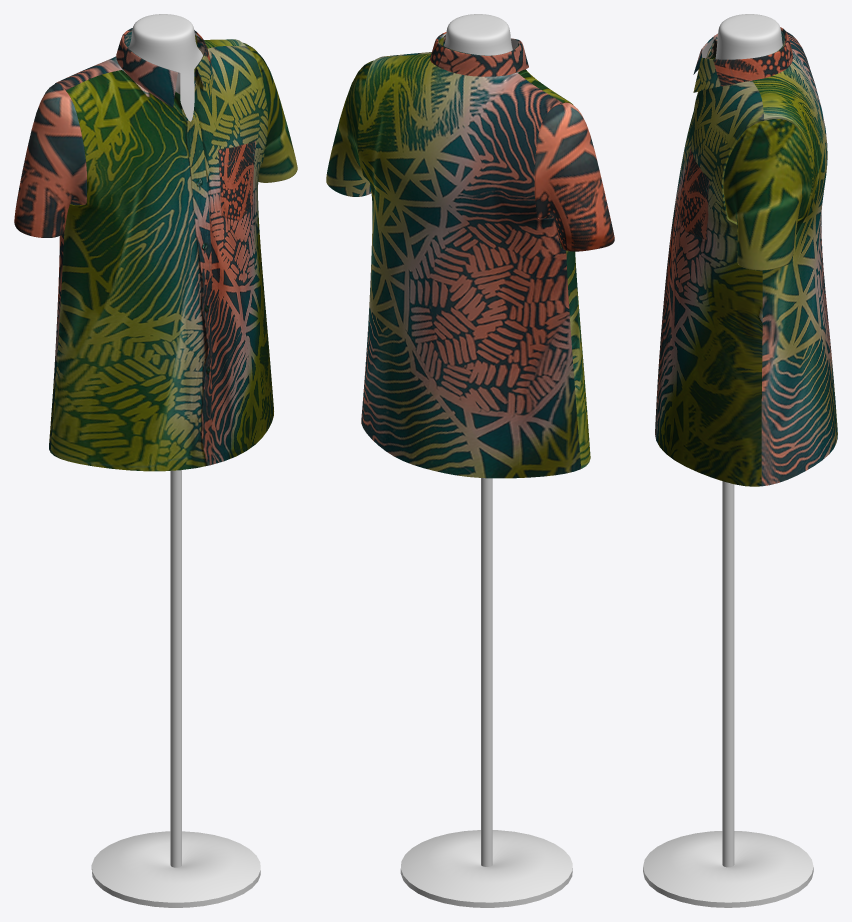
File: 1_men_batik_shirt_short.glb
3 renders of one model, left to right at view 1: azimuth 30°, elevation 25°; view 2: azimuth 150°, elevation 25°; view 3: azimuth 270°, elevation 25°, orthographic.
Visible parts, largest first — view 1: pasted__polySurface13, polySurface17, polySurface18, pasted__polySurface14; view 2: pasted__polySurface13, polySurface17, polySurface18, pasted__polySurface14; view 3: pasted__polySurface13, polySurface17, pasted__polySurface14, polySurface18.
Part boxes in pixels (x1,y1,x2,y2): pasted__polySurface13: (14,30,297,471); polySurface17: (91,470,260,907); polySurface18: (128,14,202,121); pasted__polySurface14: (116,28,213,107); pasted__polySurface13: (326,33,614,478); polySurface17: (400,478,572,907); polySurface18: (444,14,512,55); pasted__polySurface14: (430,32,528,76); pasted__polySurface13: (655,30,837,486); polySurface17: (643,481,813,907); pasted__polySurface14: (693,27,792,92); polySurface18: (715,14,782,59).
Bounding box in the file's own units: 54.39 × 158 × 33.02.
Materials: 3 (1 with a texture image).
